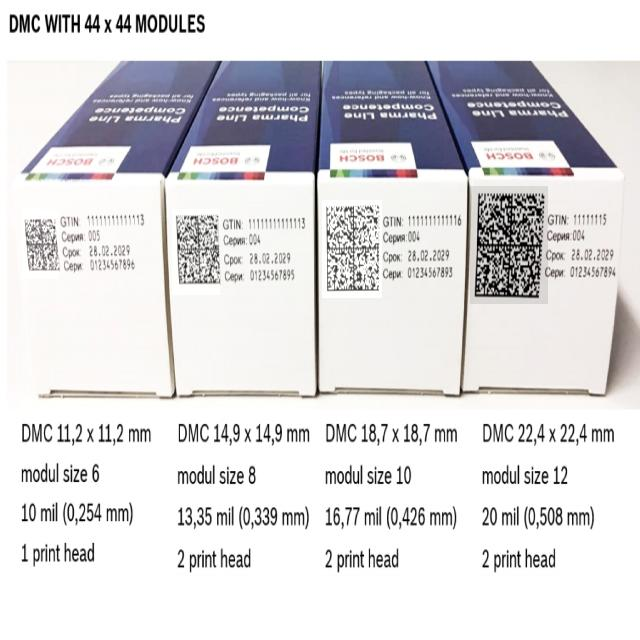DataMatrix: (470, 186, 548, 304), (322, 200, 382, 298), (173, 210, 221, 296), (22, 209, 59, 279)
